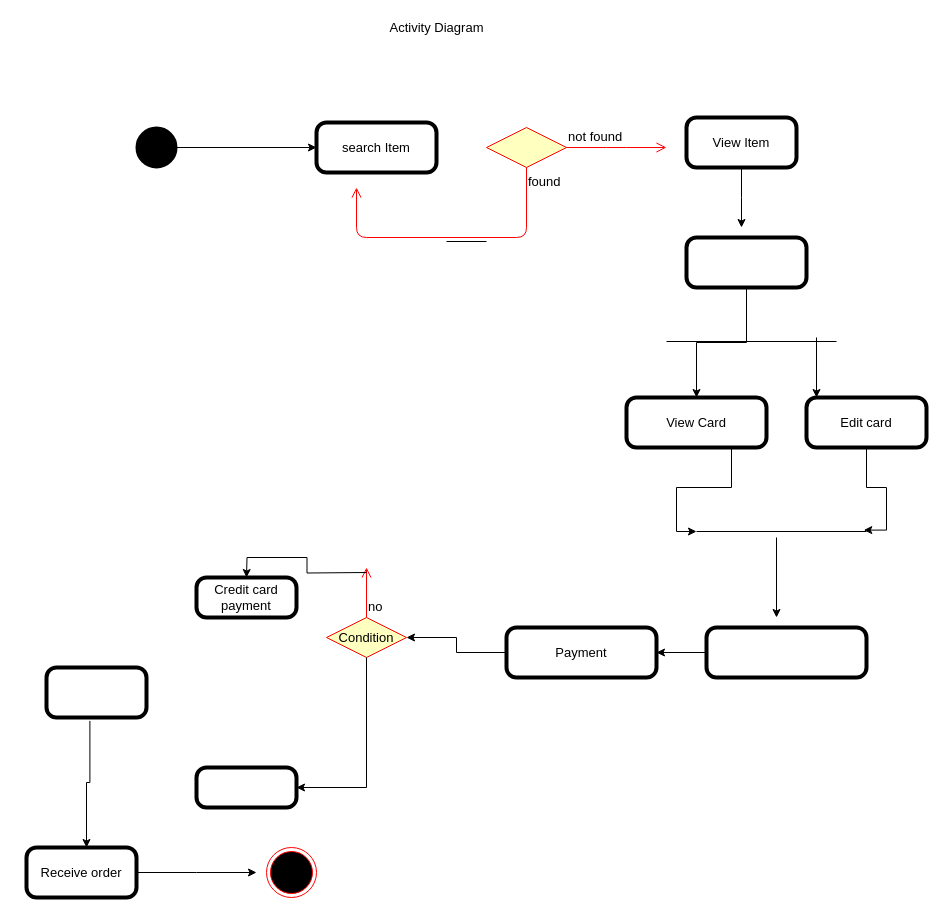
This 952x923 diagram has some shape labels left out. Here are the shapes that lost their labels. From the top down, the box of each, then its label:
(677, 228, 815, 296): Add card
(697, 618, 875, 686): Confirm order
(37, 658, 155, 726): Shiping Order
(187, 758, 305, 816): COD
